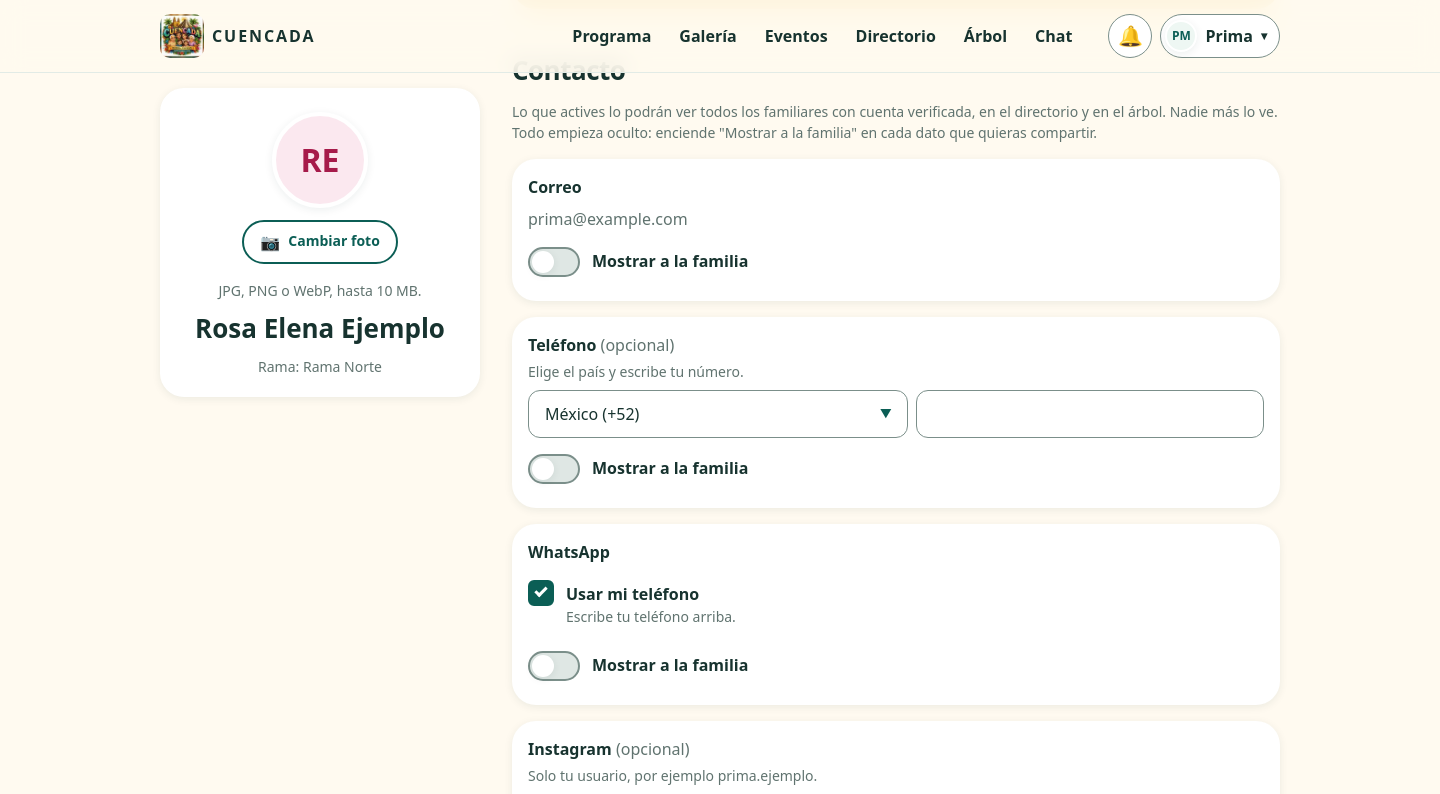
Scenario: ContactSection › uses the country picker, and a number typed with its own +lada wins
The width and height of the screenshot is (1440, 794).
(page scrolled)
Select "Estados Unidos / Canadá (+1)" in the dropdown named "País (lada) de teléfono": {"x": 718, "y": 414} [528,390,908,438]
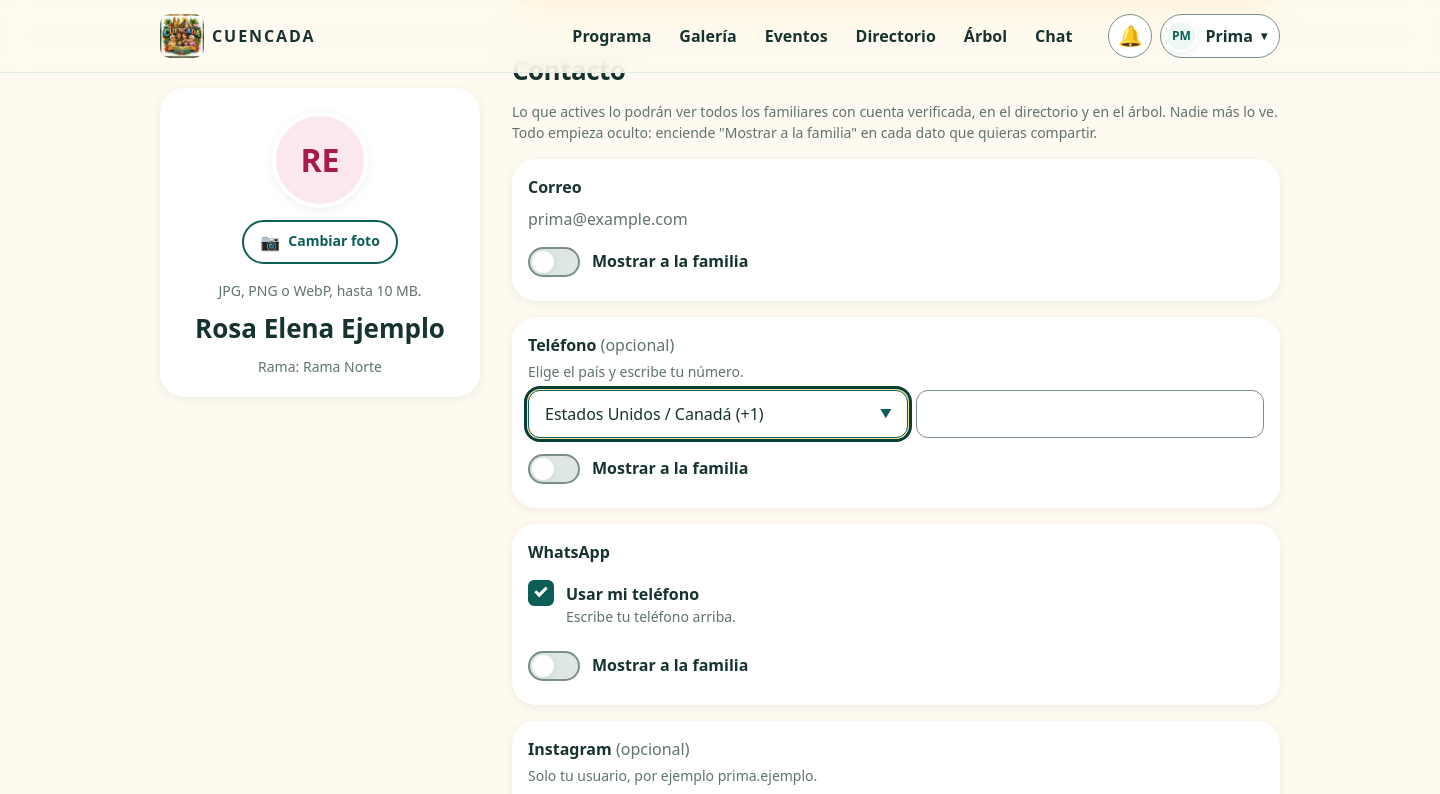
In the field labelled "Teléfono (opcional)": {"x": 1090, "y": 414} [916,390,1264,438], type "(202) 555-0147"
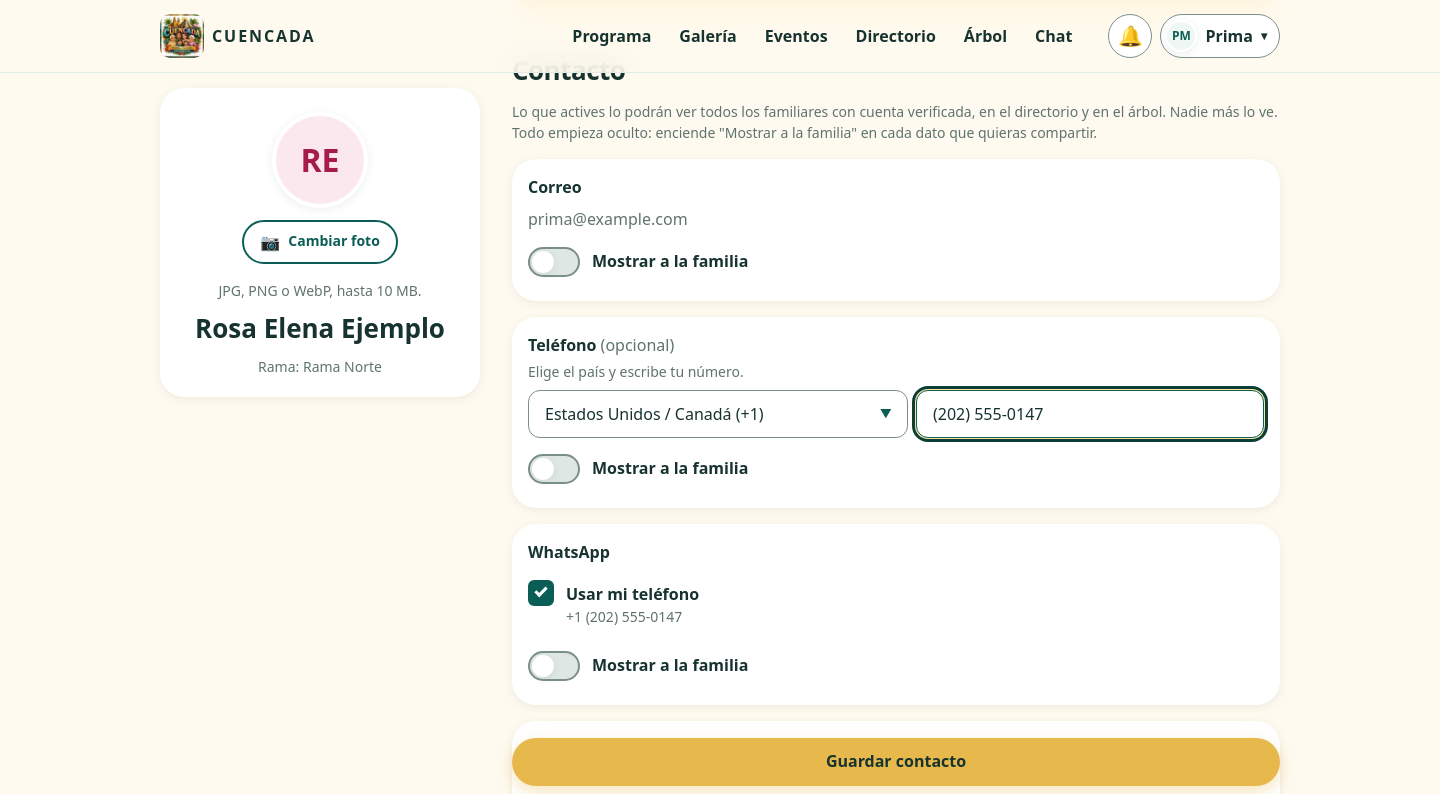
Click the checkbox labelled "Usar mi teléfono": {"x": 541, "y": 593} [528,580,554,606]
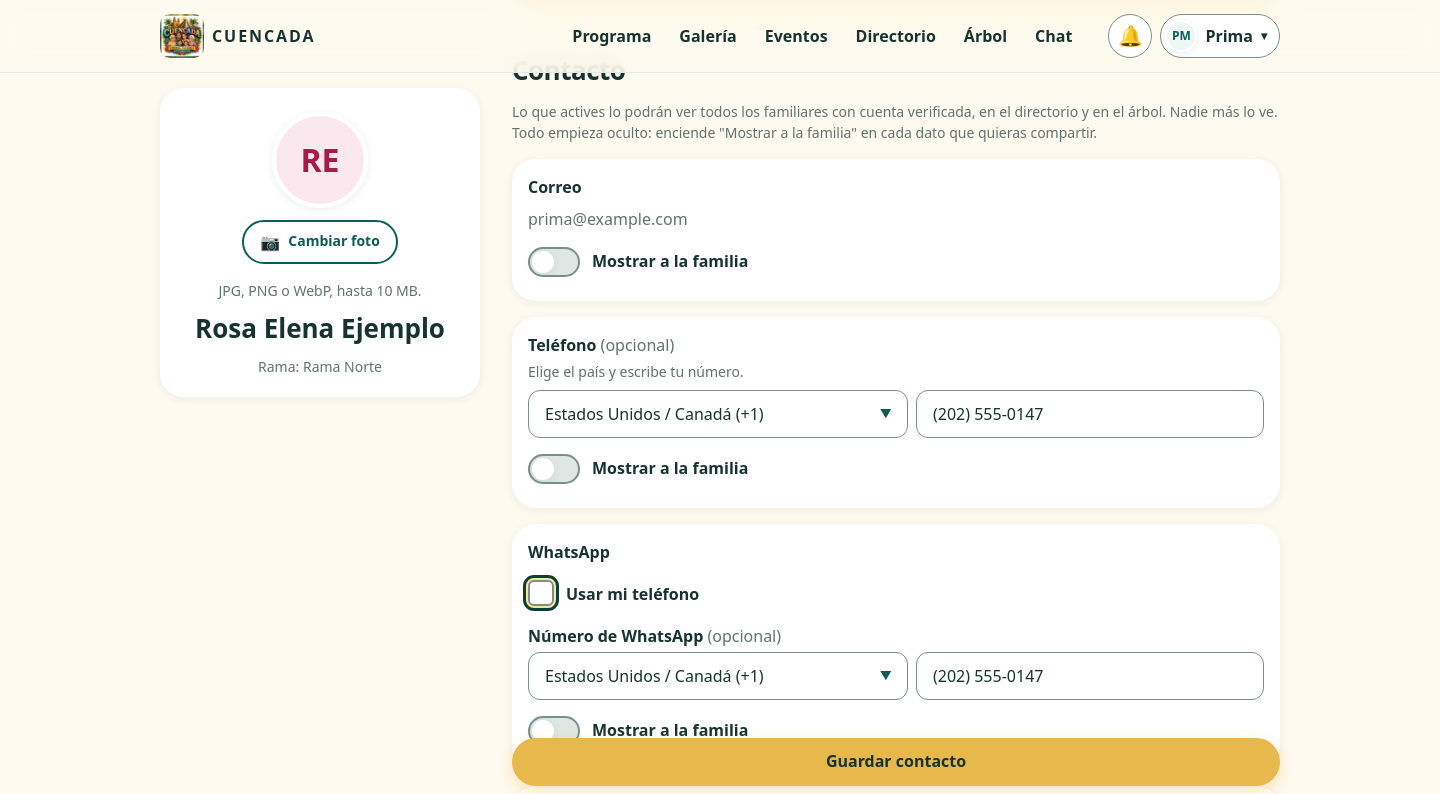
Expected: the field labelled "Número de WhatsApp (opcional)" holds "(202) 555-0147"
Replace the text in the field labelled "Número de WhatsApp (opcional)" with "+34 612 345 678": {"x": 1090, "y": 676} [916,652,1264,700]
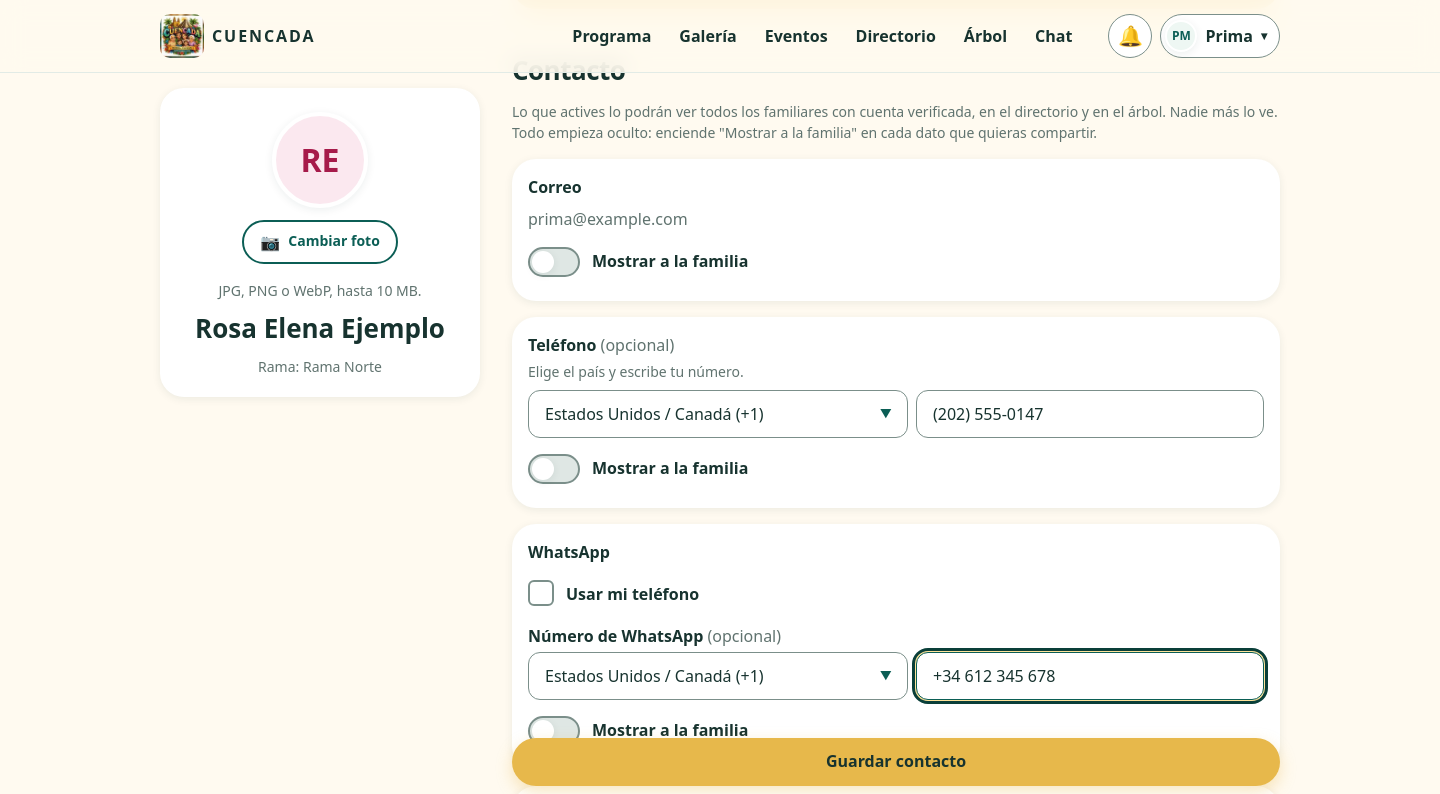
Click the button "Guardar contacto": {"x": 896, "y": 762} [512,738,1280,786]
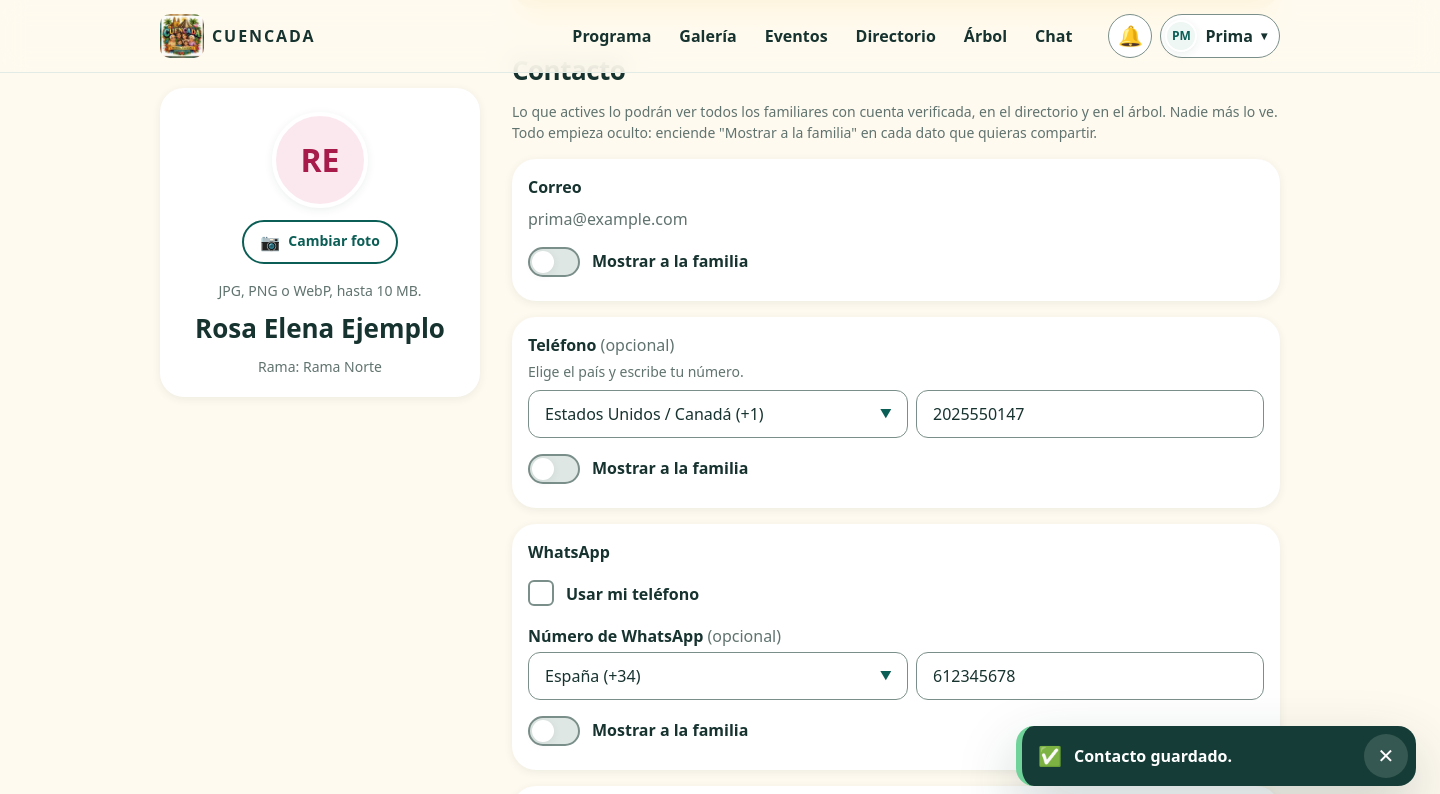
Expected: the text "Contacto guardado." is shown, [1074,745,1232,767]
